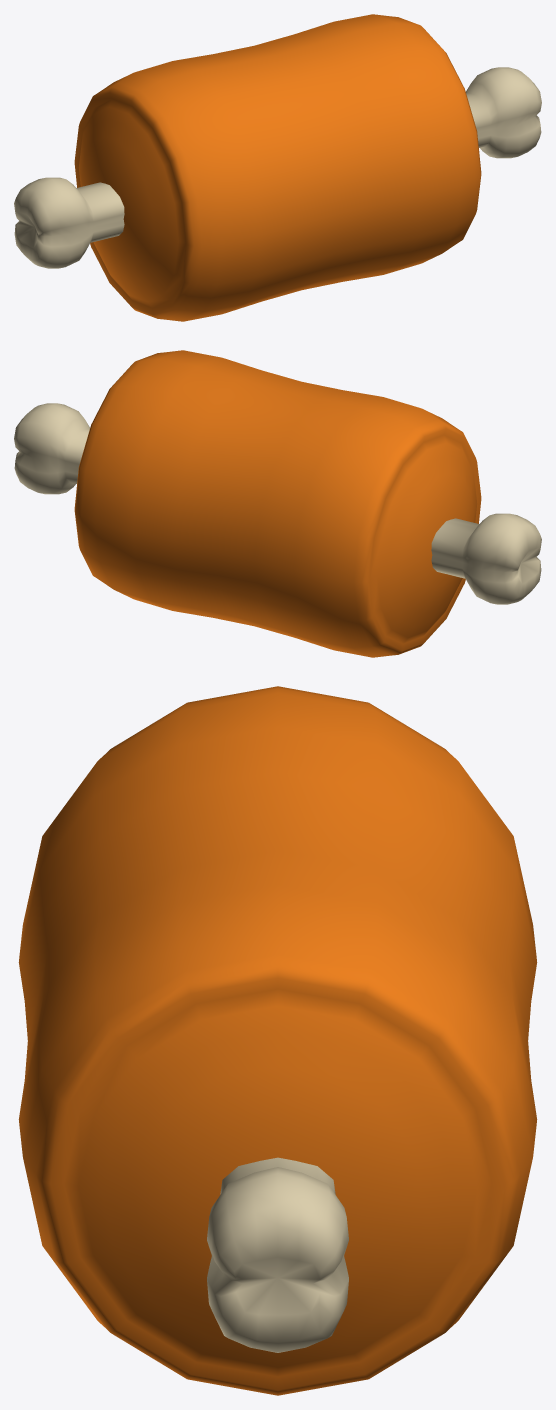
The model's file is MeatBone.fbx.
3 renders of one model, top to bottom at view 1: azimuth 30°, elevation 25°; view 2: azimuth 150°, elevation 25°; view 3: azimuth 270°, elevation 25°, orthographic. The views are drawn at different scales.
Visible parts, largest first — view 1: MeatBone; view 2: MeatBone; view 3: MeatBone.
Boxes of the visible parts, x1=… form: MeatBone: x1=14, y1=14, x2=541, y2=321; MeatBone: x1=14, y1=350, x2=541, y2=657; MeatBone: x1=18, y1=686, x2=537, y2=1395.
Size of the model in its own units: 107 by 47.41 by 47.41.
